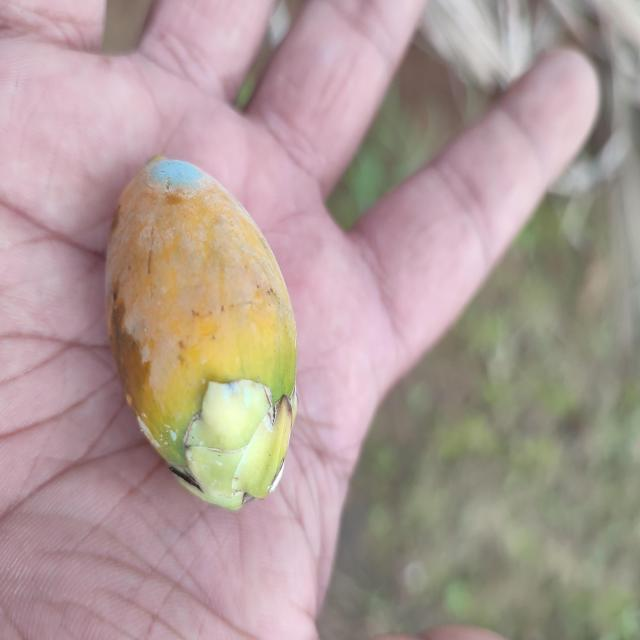good: (102, 157, 299, 515)
